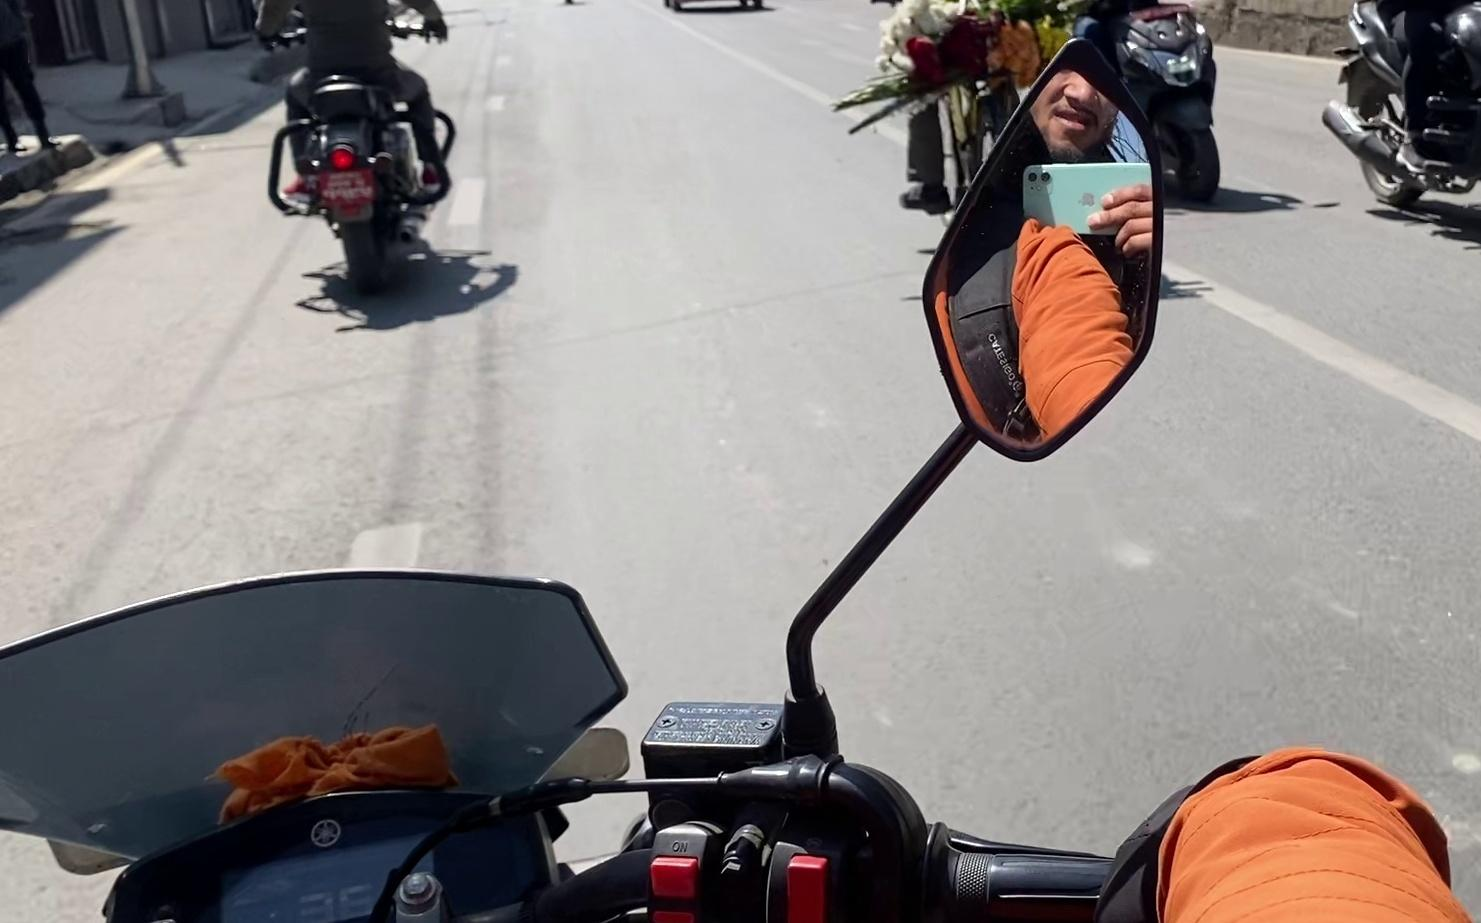license-plate: (1118, 0, 1222, 46), (318, 169, 391, 206)
